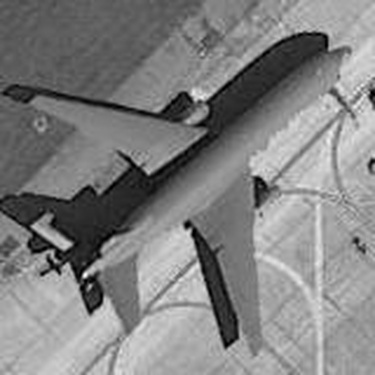airplane: (11, 29, 355, 361)
